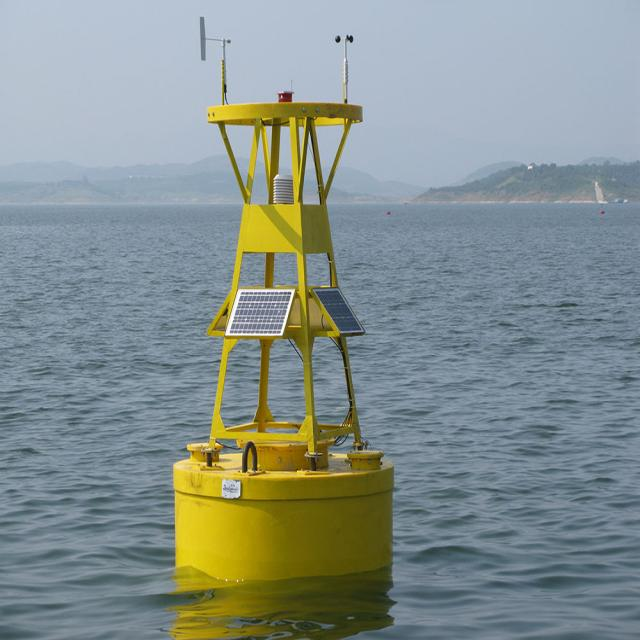buoy: (169, 24, 396, 580)
